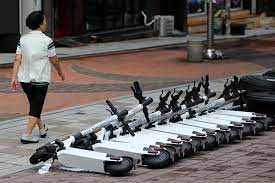fallin_kick: (75, 81, 171, 165)
